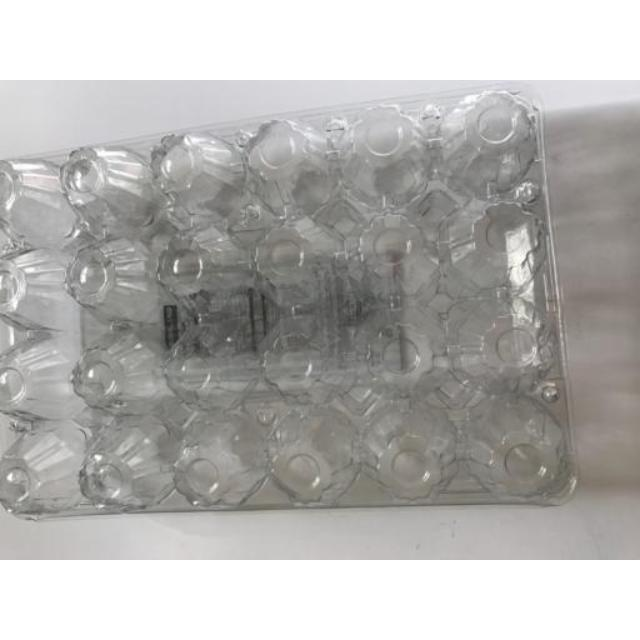plastic: (0, 86, 575, 519)
